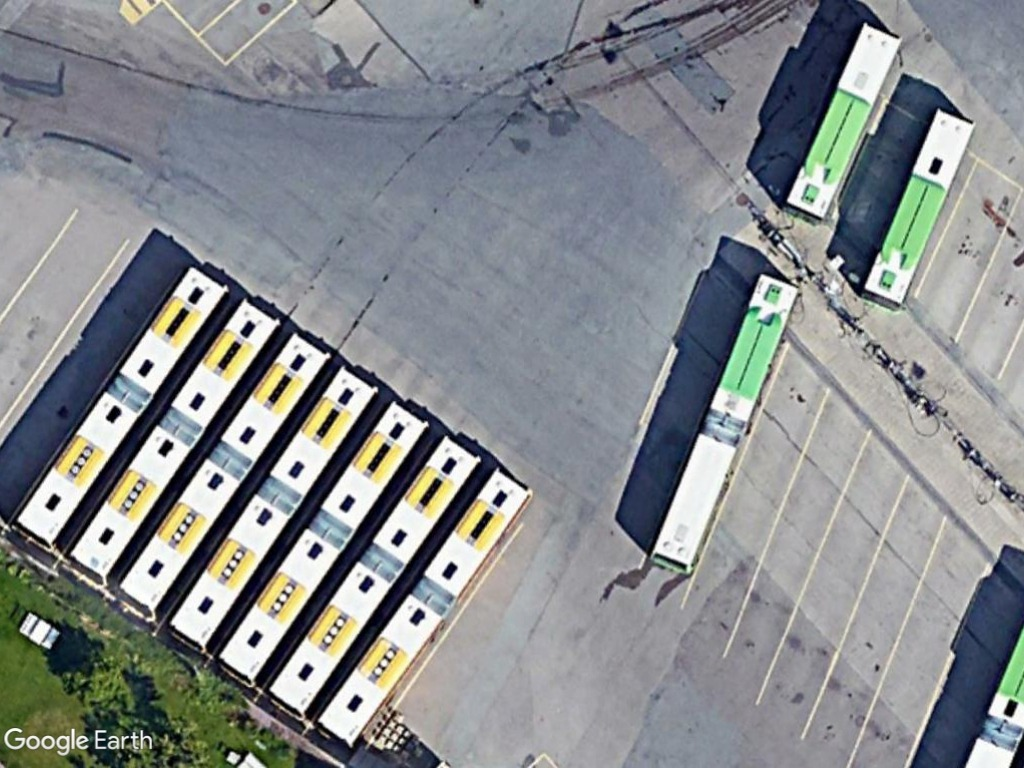bus: (63, 290, 286, 587), (306, 464, 535, 753), (13, 260, 236, 556), (262, 426, 482, 725), (161, 359, 380, 659), (110, 326, 333, 618), (212, 394, 429, 689), (645, 269, 804, 580), (779, 20, 909, 227), (855, 104, 979, 310)
